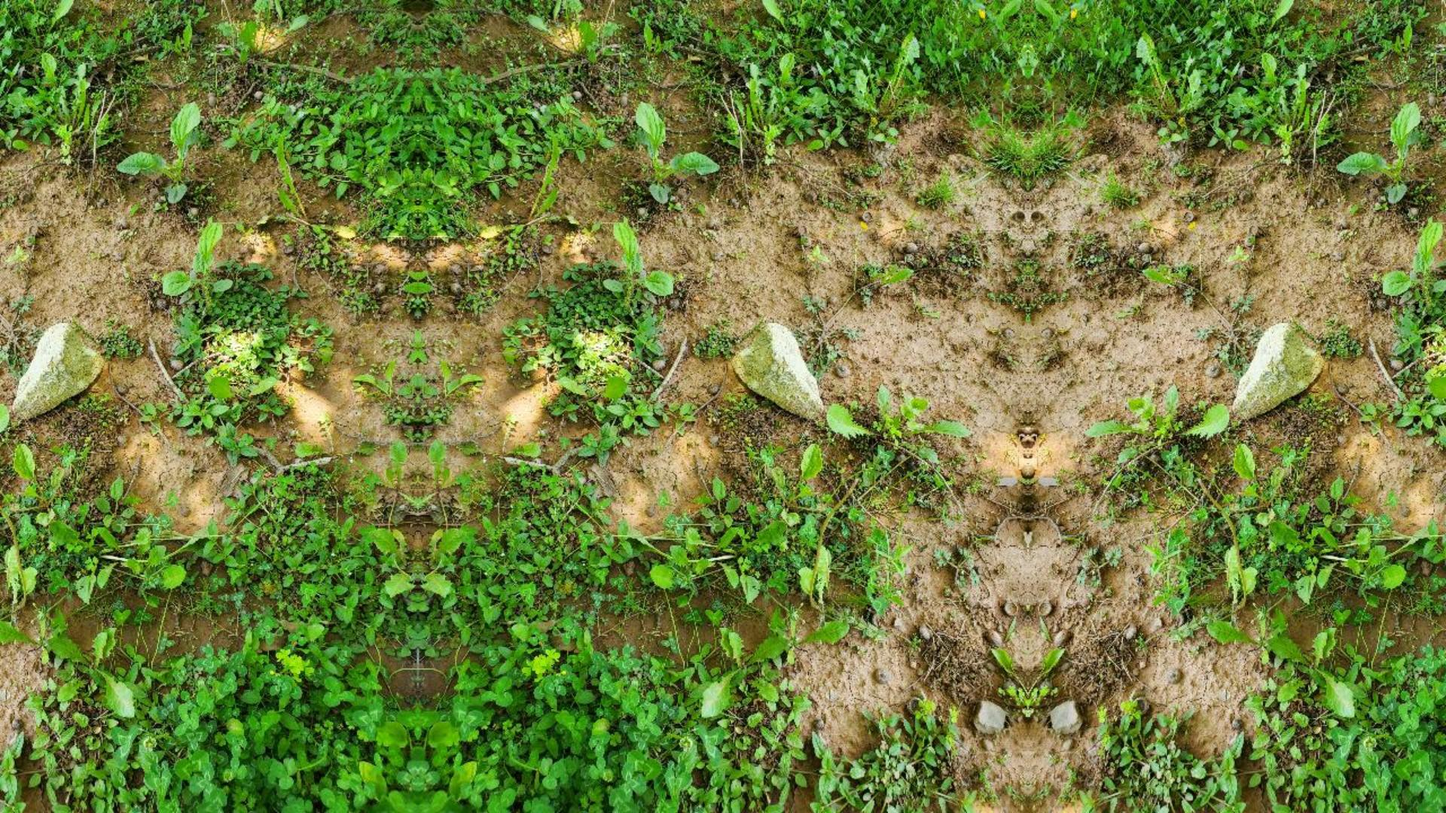rock: (732, 322, 824, 419), (11, 323, 103, 419), (1231, 323, 1323, 419)
